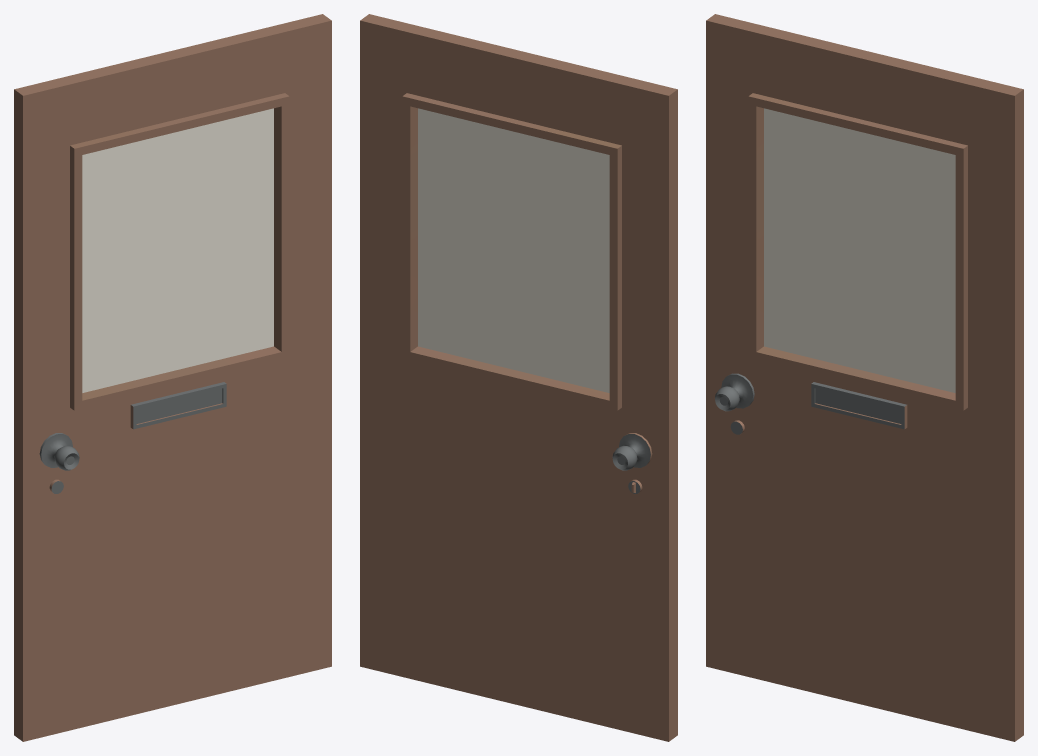
Rendered from Door1.fbx.
3 renders of one model, left to right at view 1: azimuth 30°, elevation 25°; view 2: azimuth 150°, elevation 25°; view 3: azimuth 330°, elevation 25°, orthographic.
Visible parts, largest first — view 1: door1; view 2: door1; view 3: door1.
Boxes of the visible parts, bbox=[...] form: door1: bbox=[14, 14, 331, 741]; door1: bbox=[360, 14, 677, 741]; door1: bbox=[706, 14, 1023, 741].
Size of the model in its own units: 99 by 198 by 22.62.
